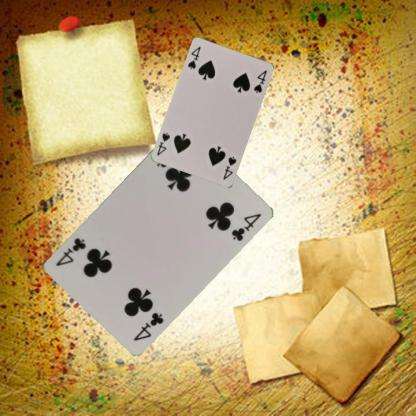4c: (130, 309, 165, 342)
4s: (221, 154, 238, 181), (186, 44, 202, 71)
